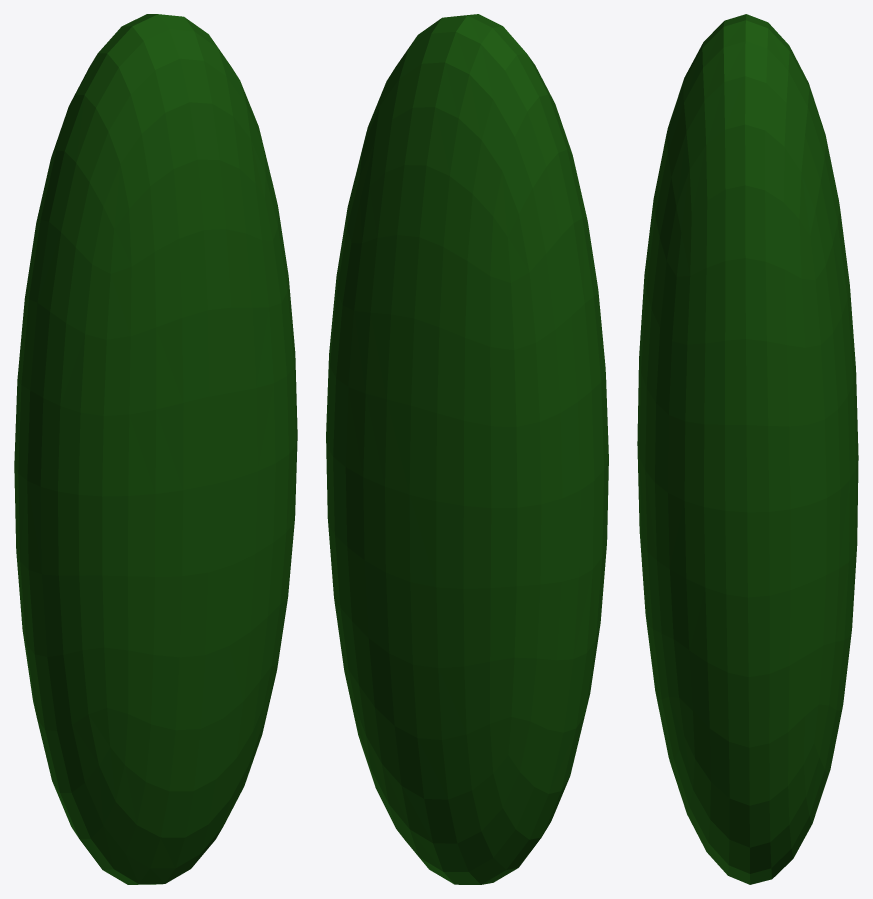
The picture shows the model from 3 angles, left to right: view 1: azimuth 30°, elevation 25°; view 2: azimuth 150°, elevation 25°; view 3: azimuth 270°, elevation 25°; orthographic projection.
Visible parts, largest first — view 1: 656_Cube.2635; view 2: 656_Cube.2635; view 3: 656_Cube.2635.
Part boxes in pixels (box(x1,y1,x2,y2)): 656_Cube.2635: box(14, 14, 297, 884); 656_Cube.2635: box(326, 14, 608, 884); 656_Cube.2635: box(637, 14, 858, 884).
Size of the model in its own units: 3.11 by 10.07 by 2.34.
